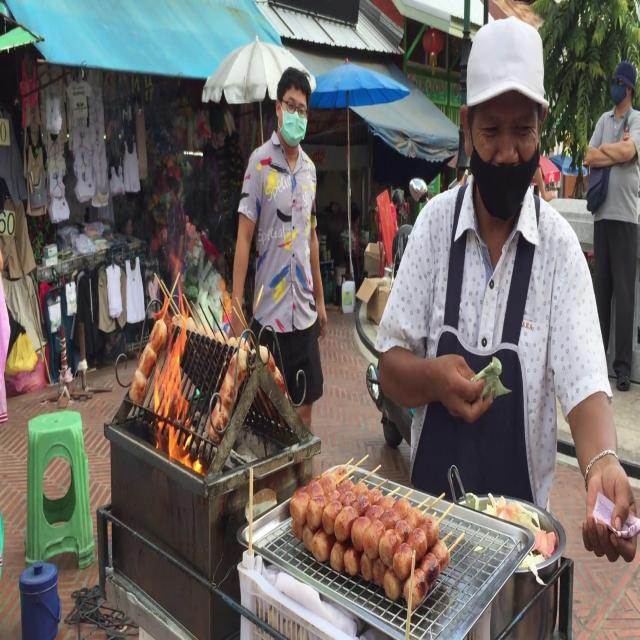Fire: (141, 286, 200, 470)
